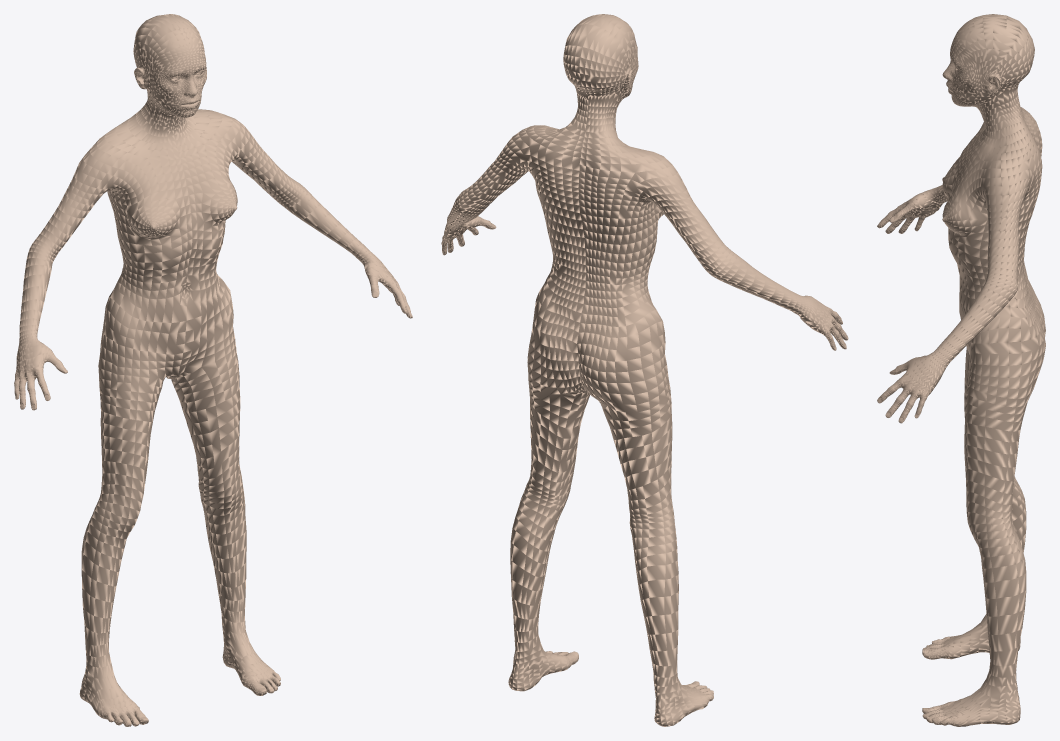
File: female_low_low.glb
The picture shows the model from 3 angles, left to right: view 1: azimuth 30°, elevation 25°; view 2: azimuth 150°, elevation 25°; view 3: azimuth 270°, elevation 25°; orthographic projection. The views are drawn at different scales.
Visible parts, largest first — view 1: female_low_lowMesh; view 2: female_low_lowMesh; view 3: female_low_lowMesh.
Boxes of the visible parts, x1,y1,x2,y2 form: female_low_lowMesh: (14, 14, 412, 726); female_low_lowMesh: (441, 14, 848, 726); female_low_lowMesh: (877, 14, 1045, 726).
Bounding box in the file's own units: 9.82 × 16.08 × 3.67.
